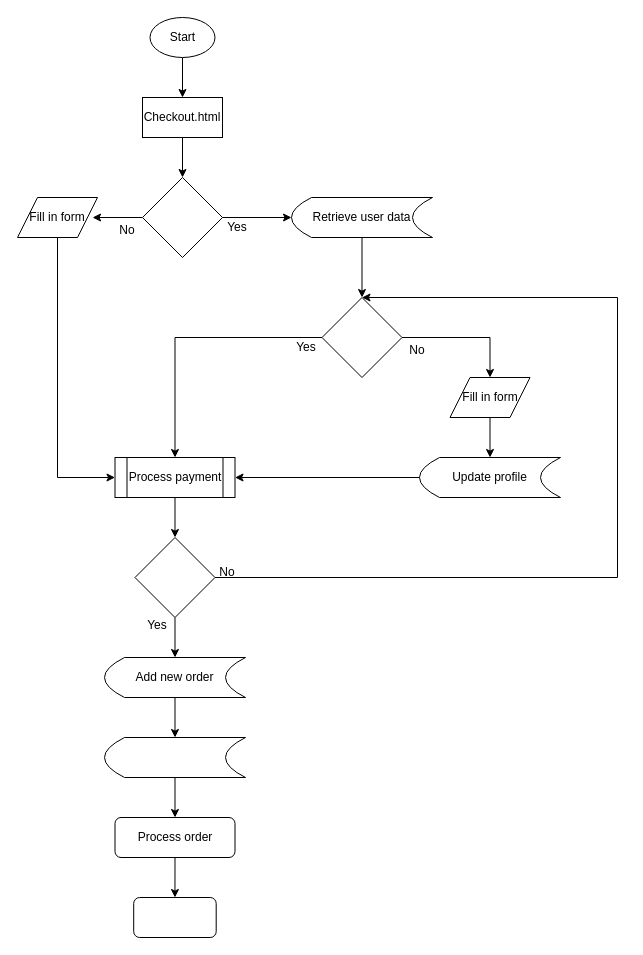
This 643x955 diagram has some shape labels left out. Each missing label, with the centre of its shape:
"Accepted?" belongs at (x=174, y=577).
"Create order status" belongs at (x=175, y=757).
"End" belongs at (x=174, y=917).
"Is logged in?" belongs at (x=182, y=217).
"Use stored payment info?" belongs at (x=361, y=337).
